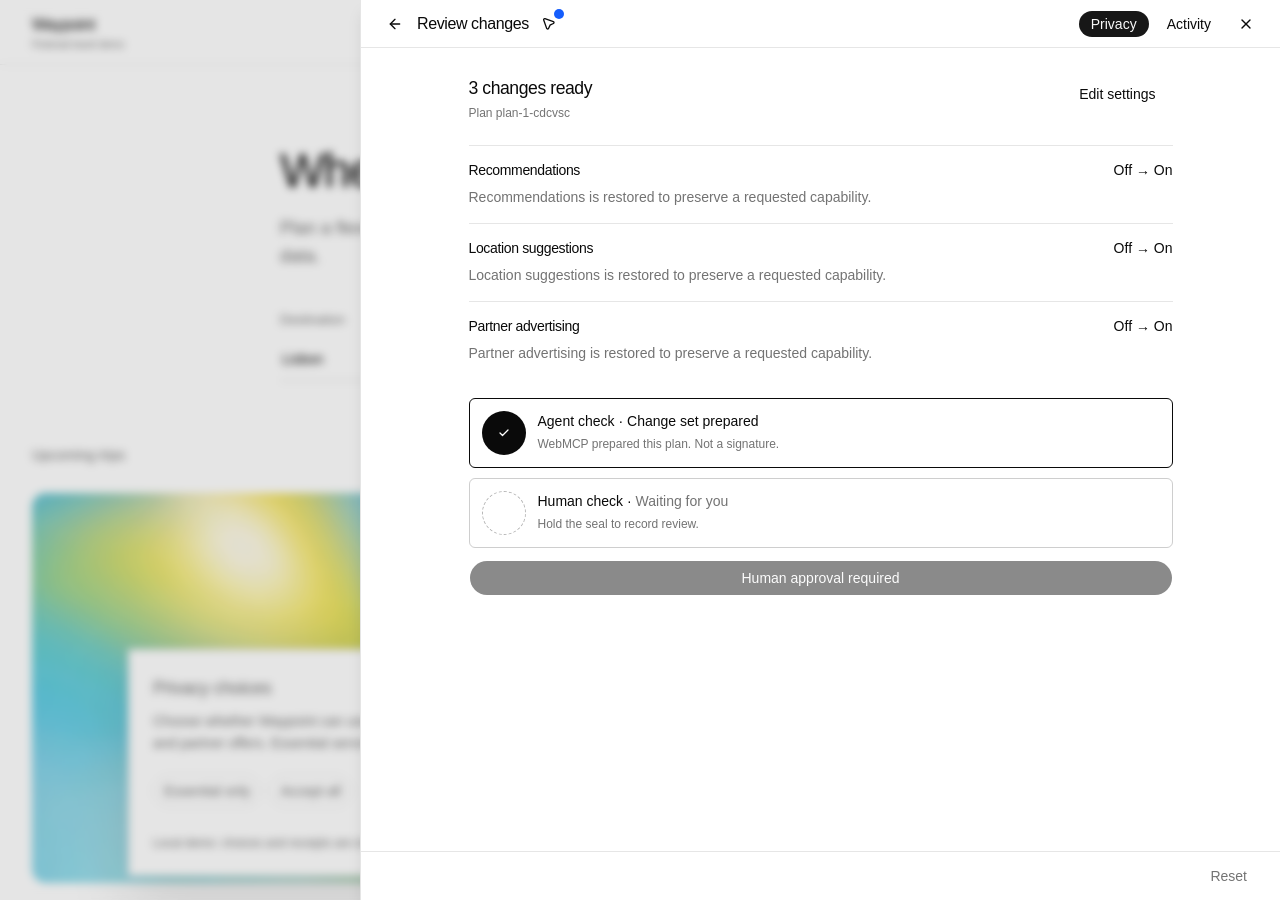
Test: privacy settings UI › keeps the agent dot until meaningful content engagement, not popover or close
This screenshot has width=1280, height=900.
expect the element with test id "agent-activity-dot" is shown: met, box [554,8,564,18]
Click the button named "Agent activity, new agent-opened view": (549, 24) [535,10,563,38]
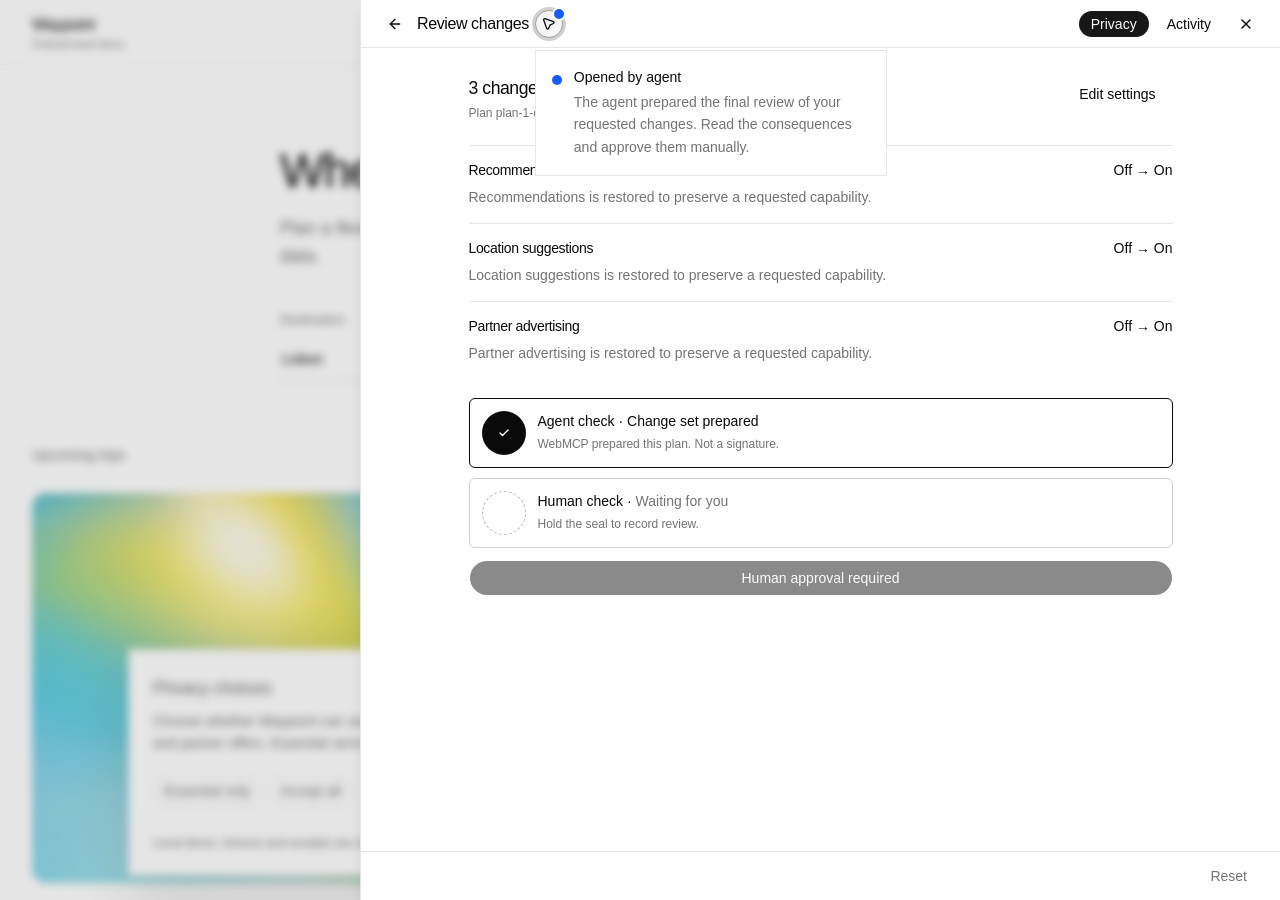
expect the element with test id "agent-activity-dot" is shown: met, box [554,8,564,18]
expect the text "The agent prepared the final review" is shown: met, box [574,94,852,155]
Press Escape
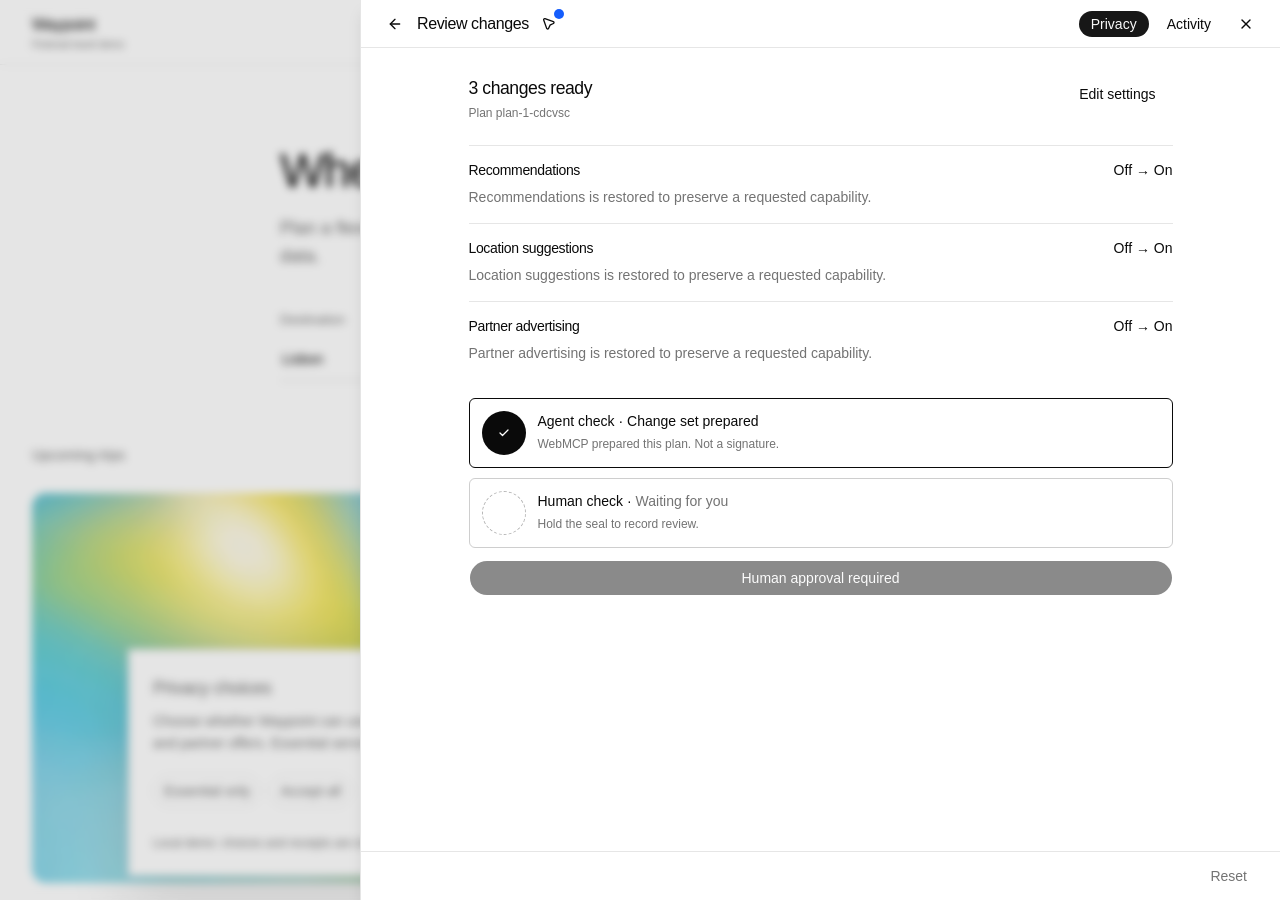
Click the text "3 changes ready": (530, 89) [468,76,592,101]
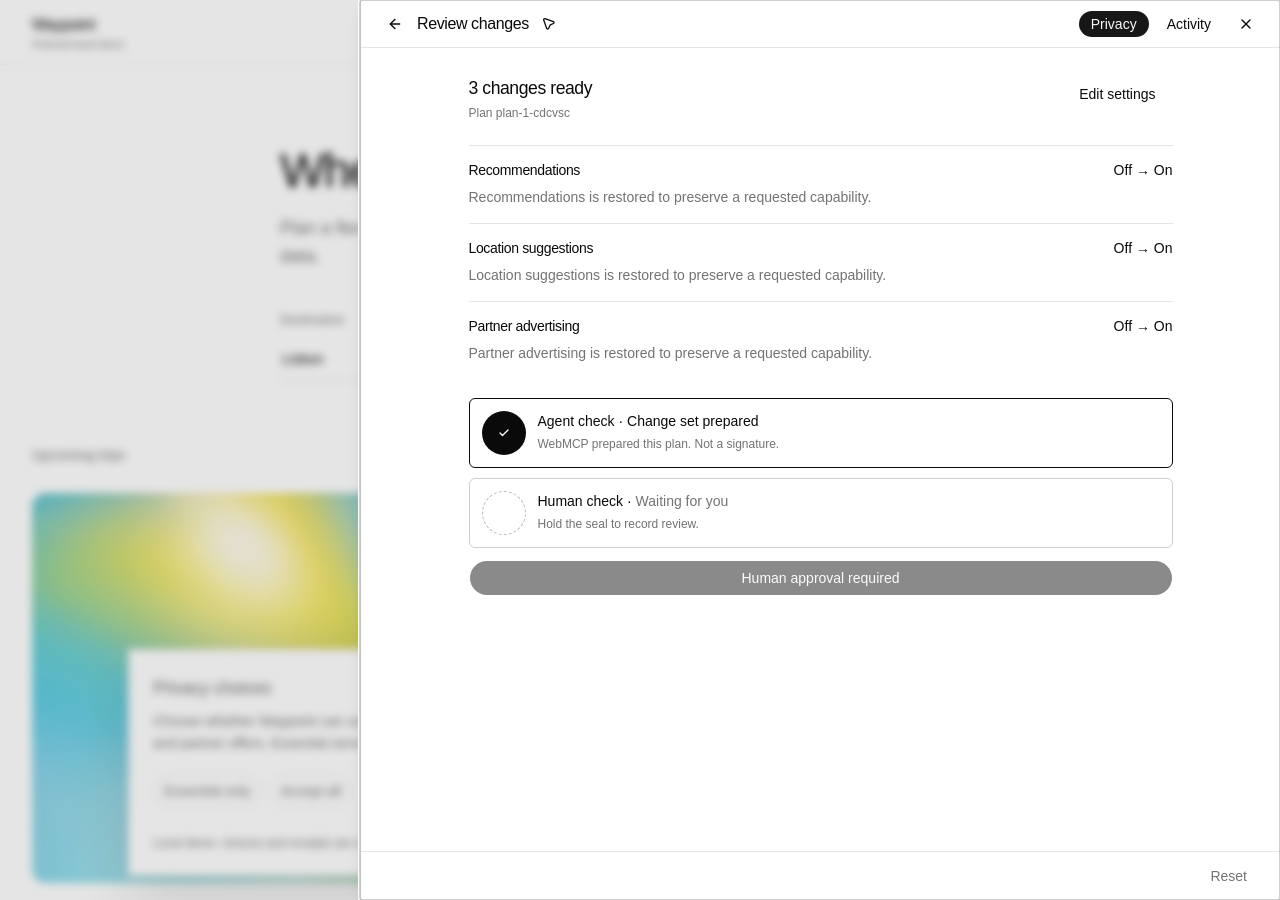
expect the element with test id "agent-activity-dot" is gone: met
Click the button named "Agent activity, interaction recorded": (549, 24) [535,10,563,38]
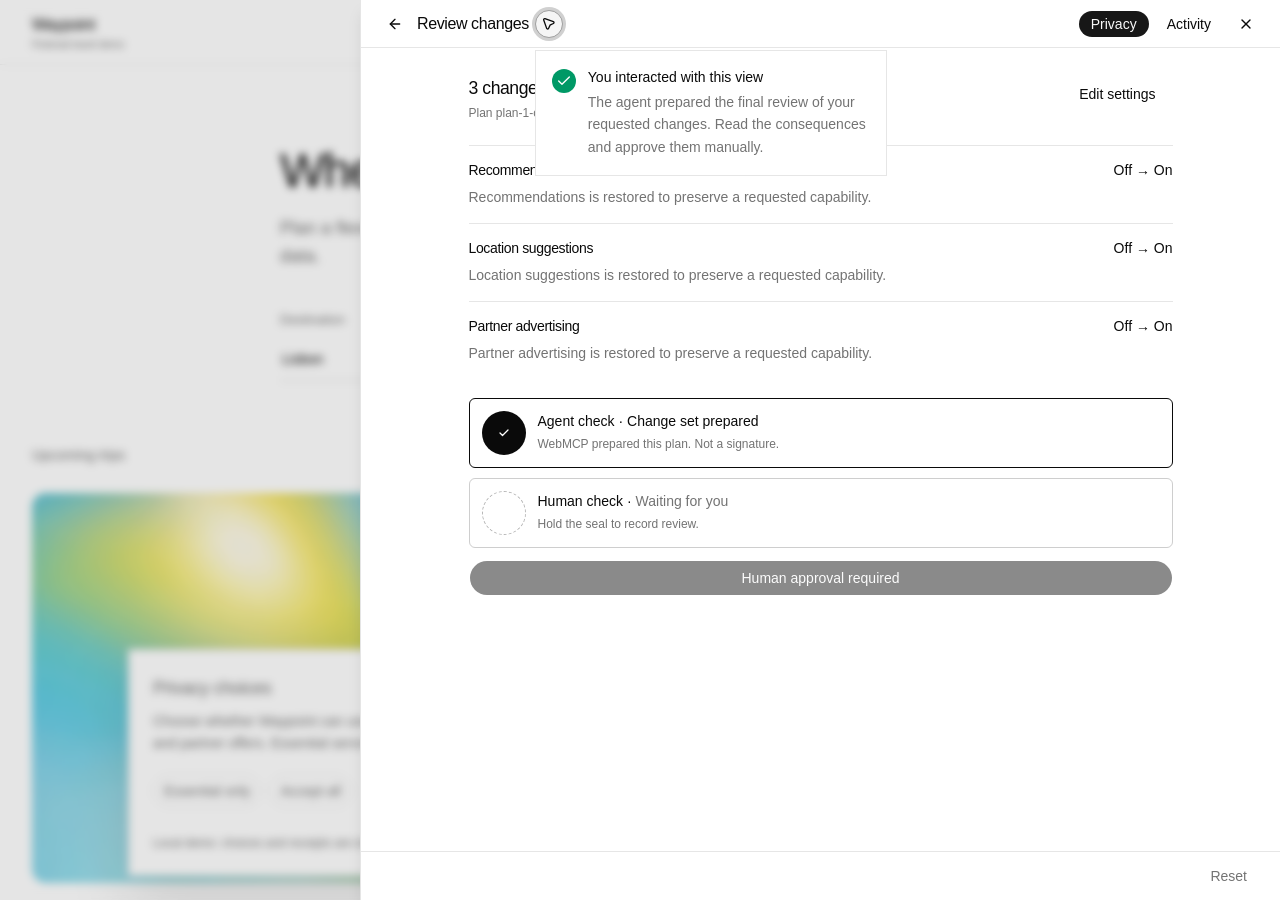
expect the text "You interacted with this view" is shown: met, box [588,68,763,84]
